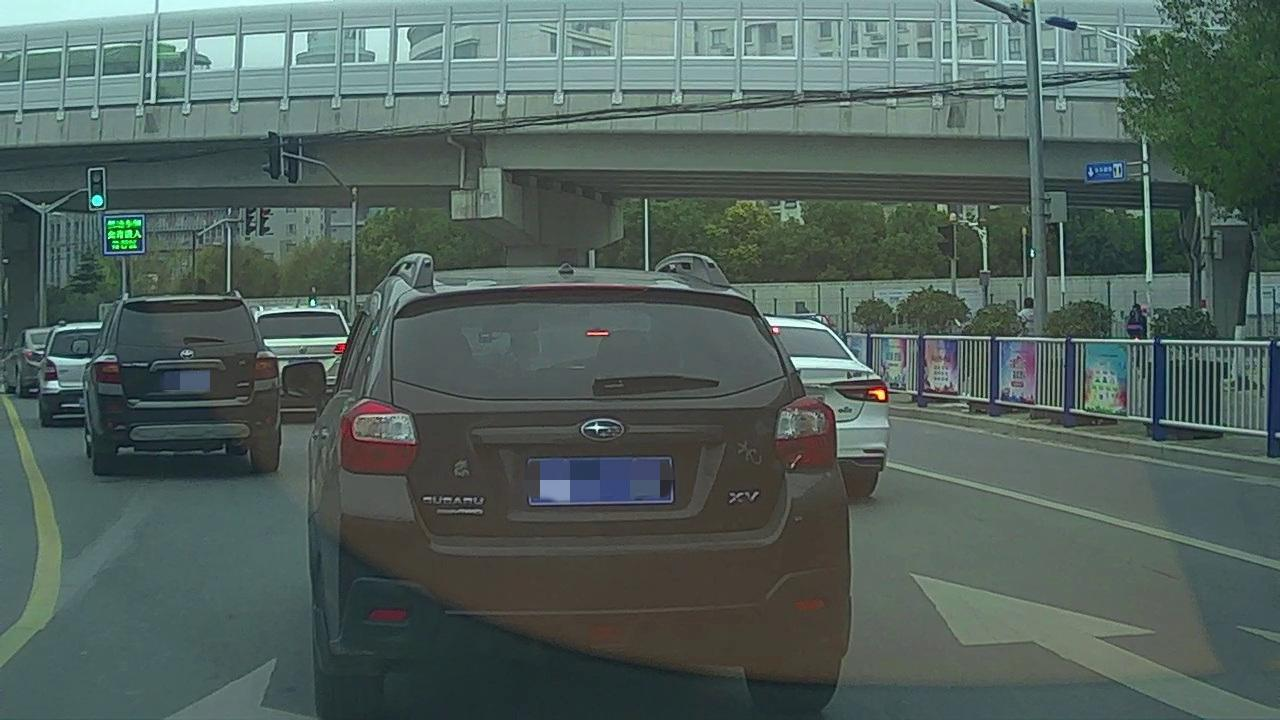traffic_light: (88, 171, 103, 207)
